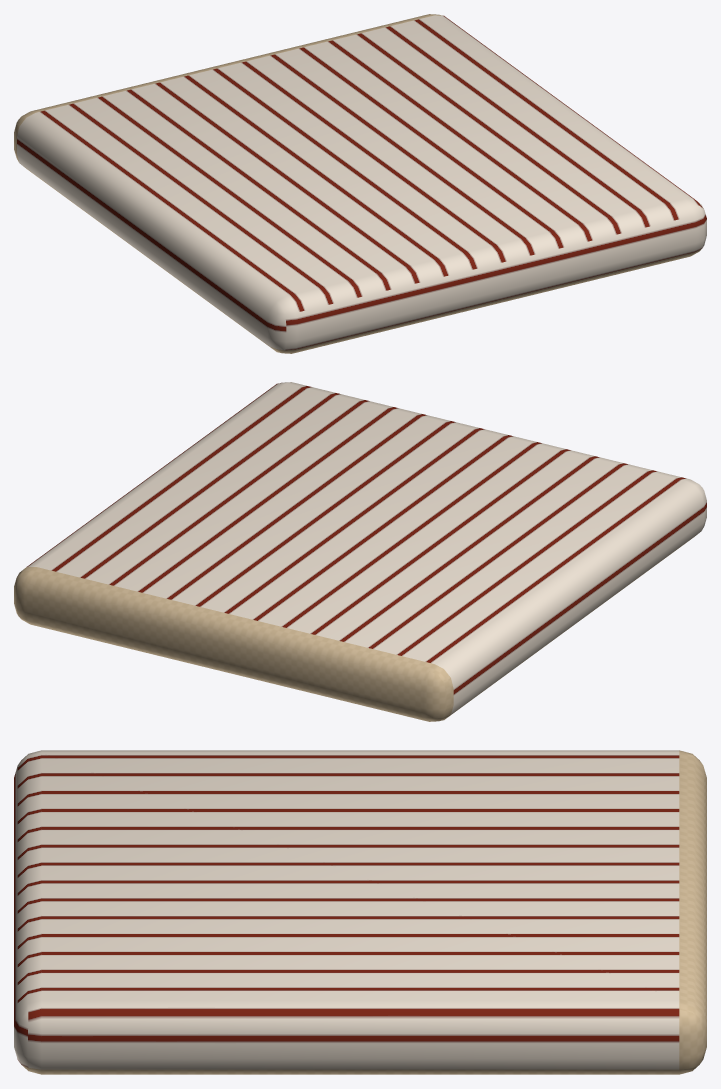
File: modern_bedspread_02.glb
The picture shows the model from 3 angles, top to bottom: view 1: azimuth 30°, elevation 25°; view 2: azimuth 150°, elevation 25°; view 3: azimuth 270°, elevation 25°; orthographic projection. The views are drawn at different scales.
Parts seen in each view (by area): view 1: modern_bedspread_02; view 2: modern_bedspread_02; view 3: modern_bedspread_02.
Part boxes in pixels (x1,y1,x2,y2): modern_bedspread_02: (14, 14, 706, 353); modern_bedspread_02: (14, 382, 706, 721); modern_bedspread_02: (14, 750, 706, 1074).
Bounding box in the file's own units: 1.62 × 0.2 × 1.75.
2 materials, 2 textured.
